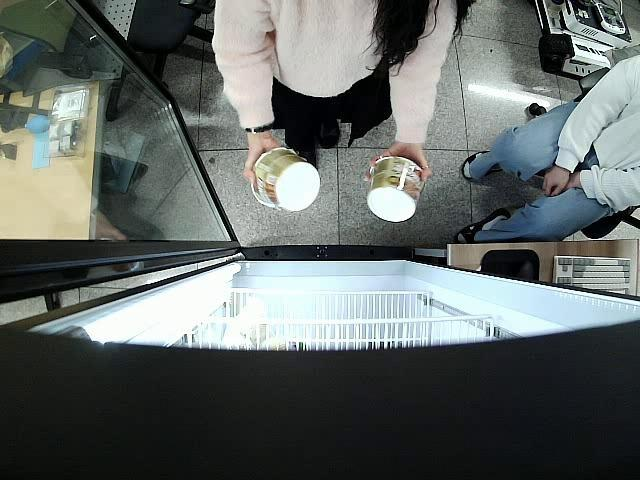03_chapagetti_L: (248, 145, 320, 214), (364, 159, 426, 225)
